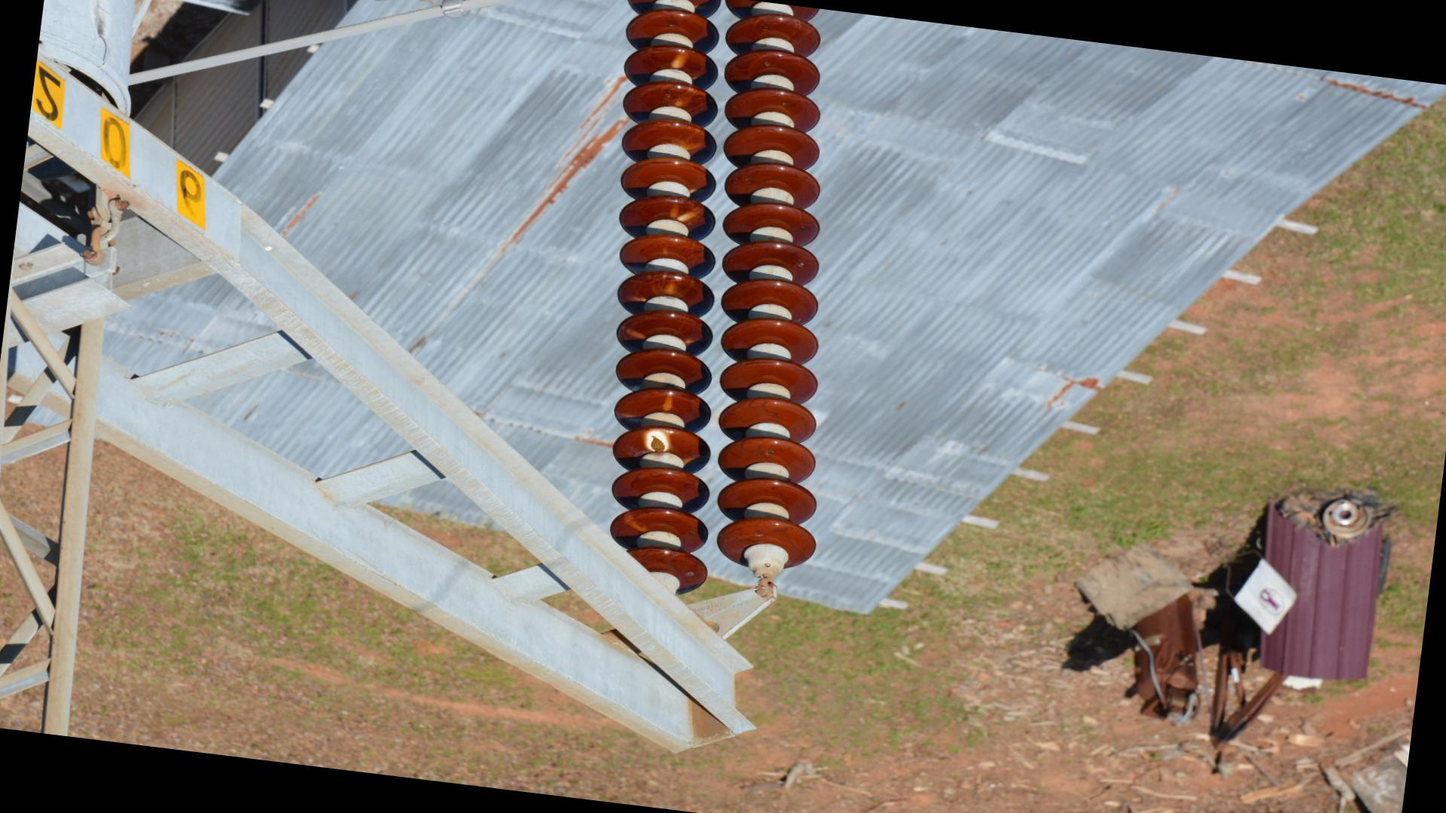damper: (360, 1, 569, 34)
